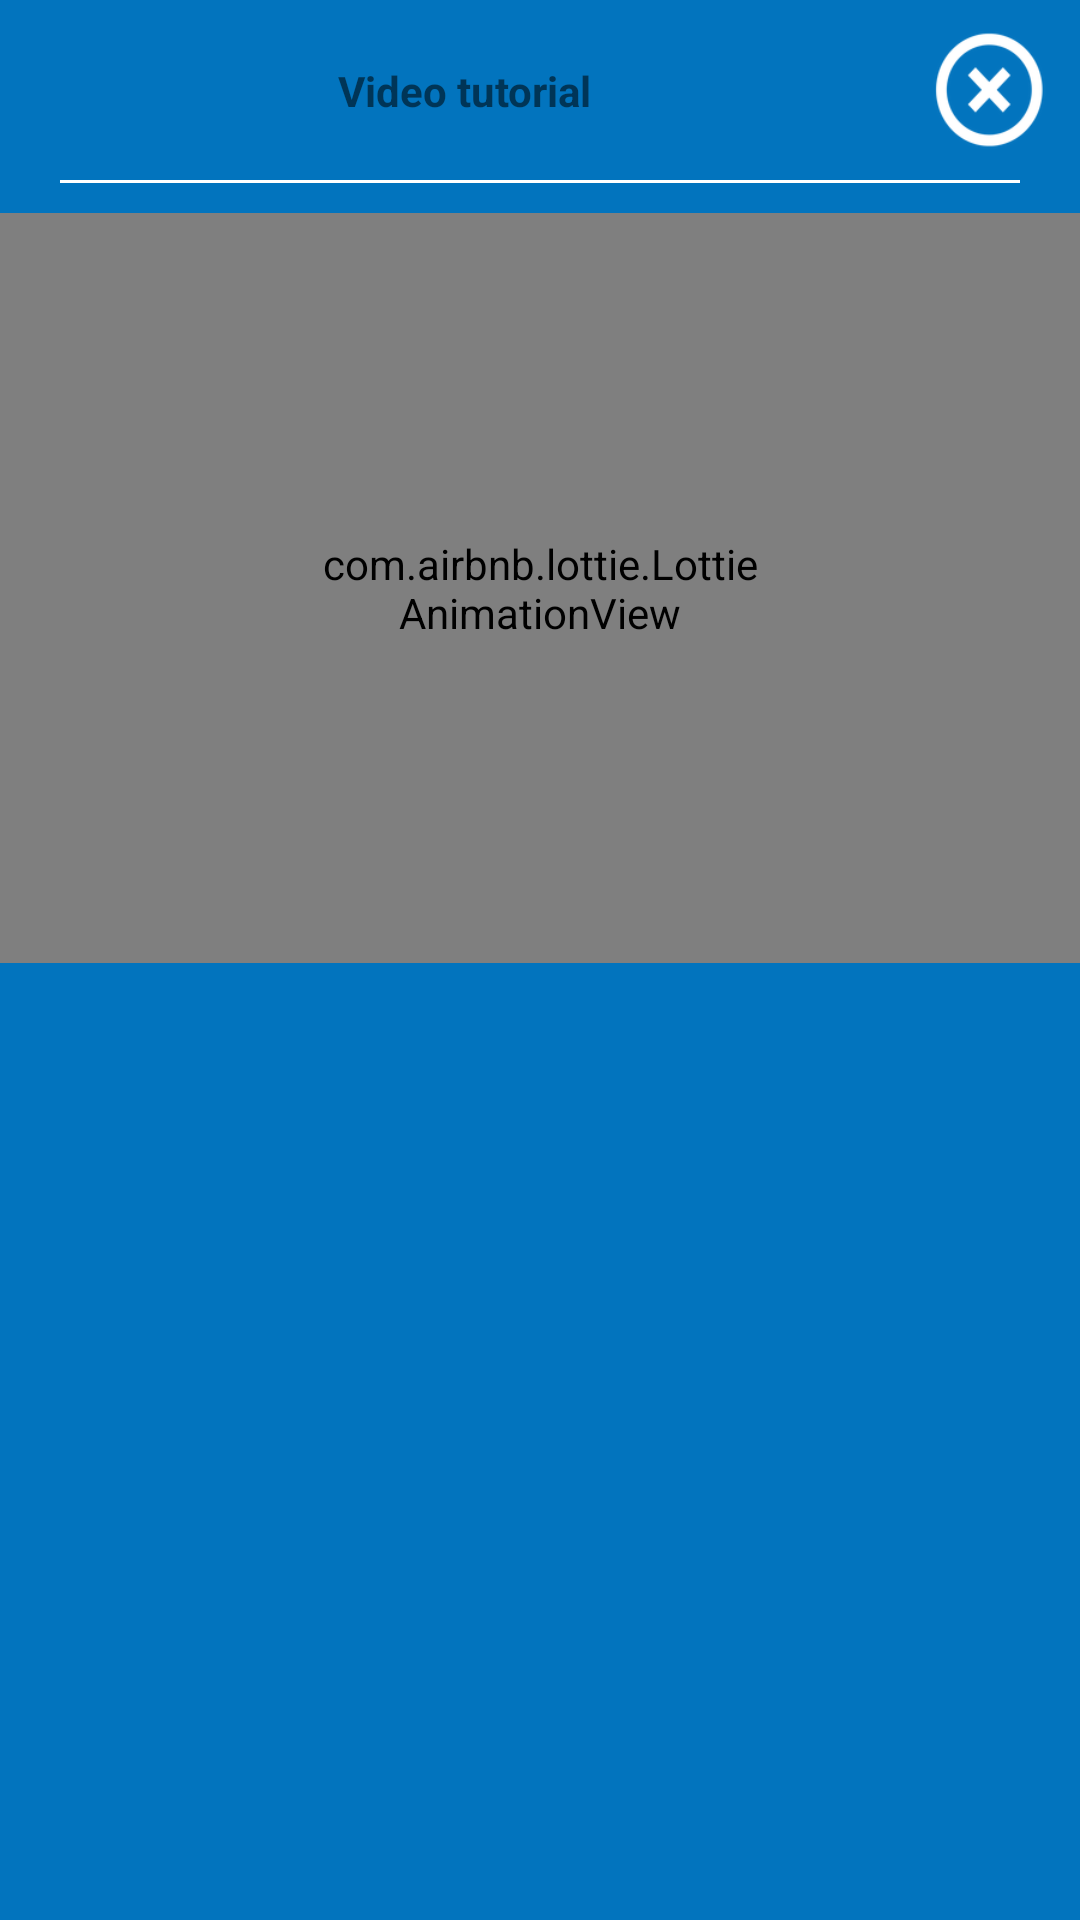

Point at icon controls on the screen. Image size 1080x1920, points as (x=x, y=y).
cross: (x=989, y=90)
